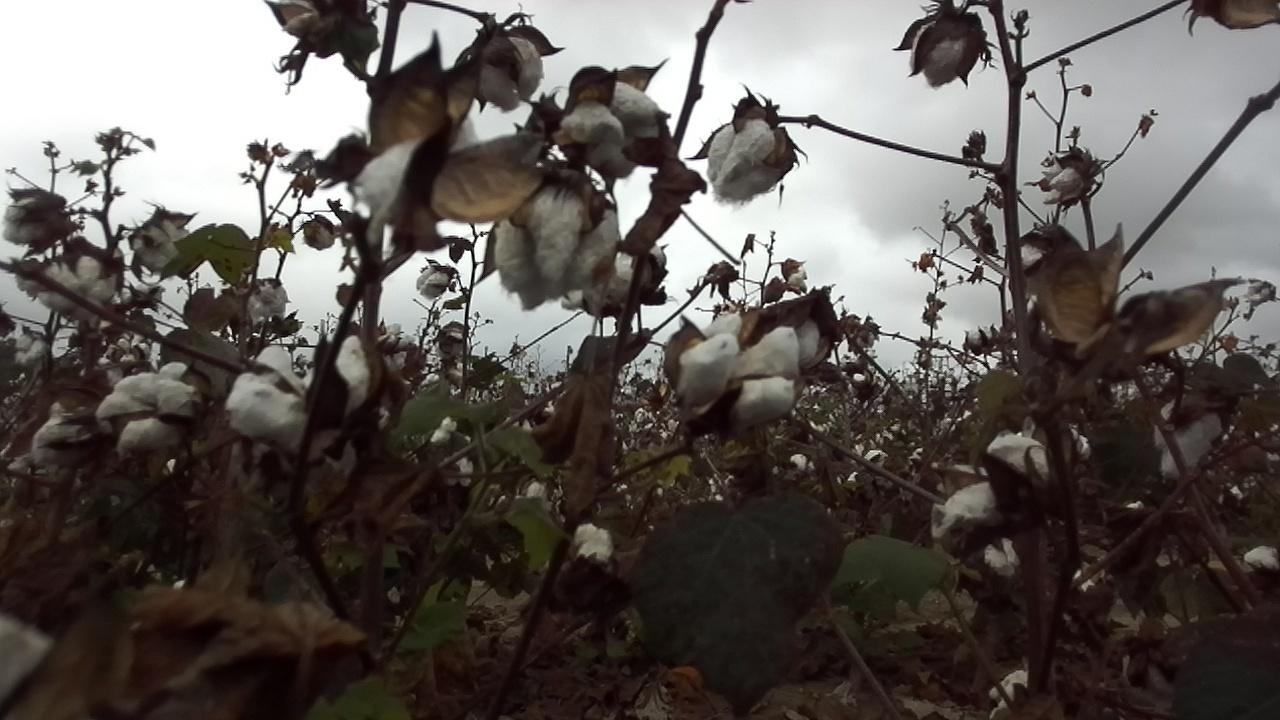cotton_ready: (494, 180, 622, 314), (358, 117, 485, 243), (676, 307, 802, 423), (558, 82, 665, 181), (227, 347, 312, 453), (98, 375, 202, 460), (933, 483, 1019, 575), (708, 117, 783, 211), (329, 335, 407, 425), (987, 427, 1092, 485), (470, 36, 543, 112), (31, 397, 102, 472), (39, 255, 119, 318), (1153, 402, 1222, 475), (908, 20, 976, 91), (567, 250, 635, 318), (779, 306, 833, 372), (130, 220, 192, 275), (986, 666, 1036, 720), (1040, 152, 1087, 205), (3, 197, 52, 244), (1006, 243, 1046, 291), (572, 523, 615, 562), (247, 279, 286, 318)
